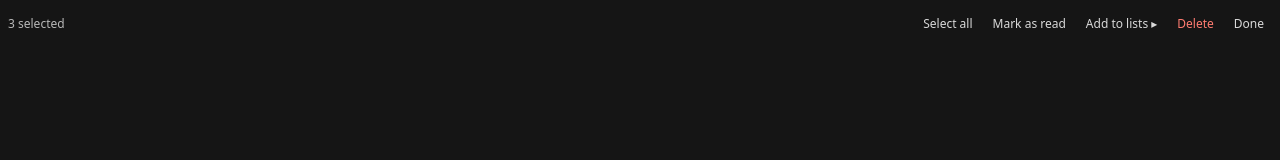
Test: FanListBulkBar › a failed mark-as-read leaves only that row picked
Click the button "Mark as read".
click(1029, 24)  # box [984,6,1074,42]
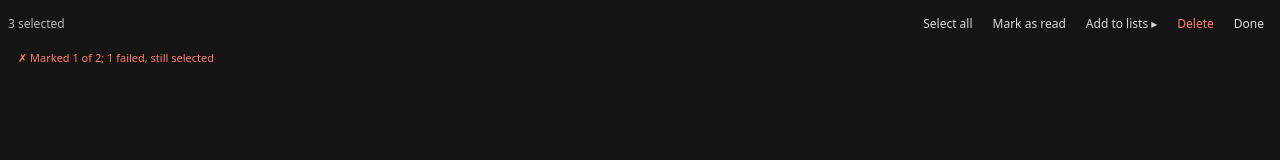
Expected: the text "✗ Marked 1 of 2; 1 failed, still selected" is shown, [18,50,214,65]
